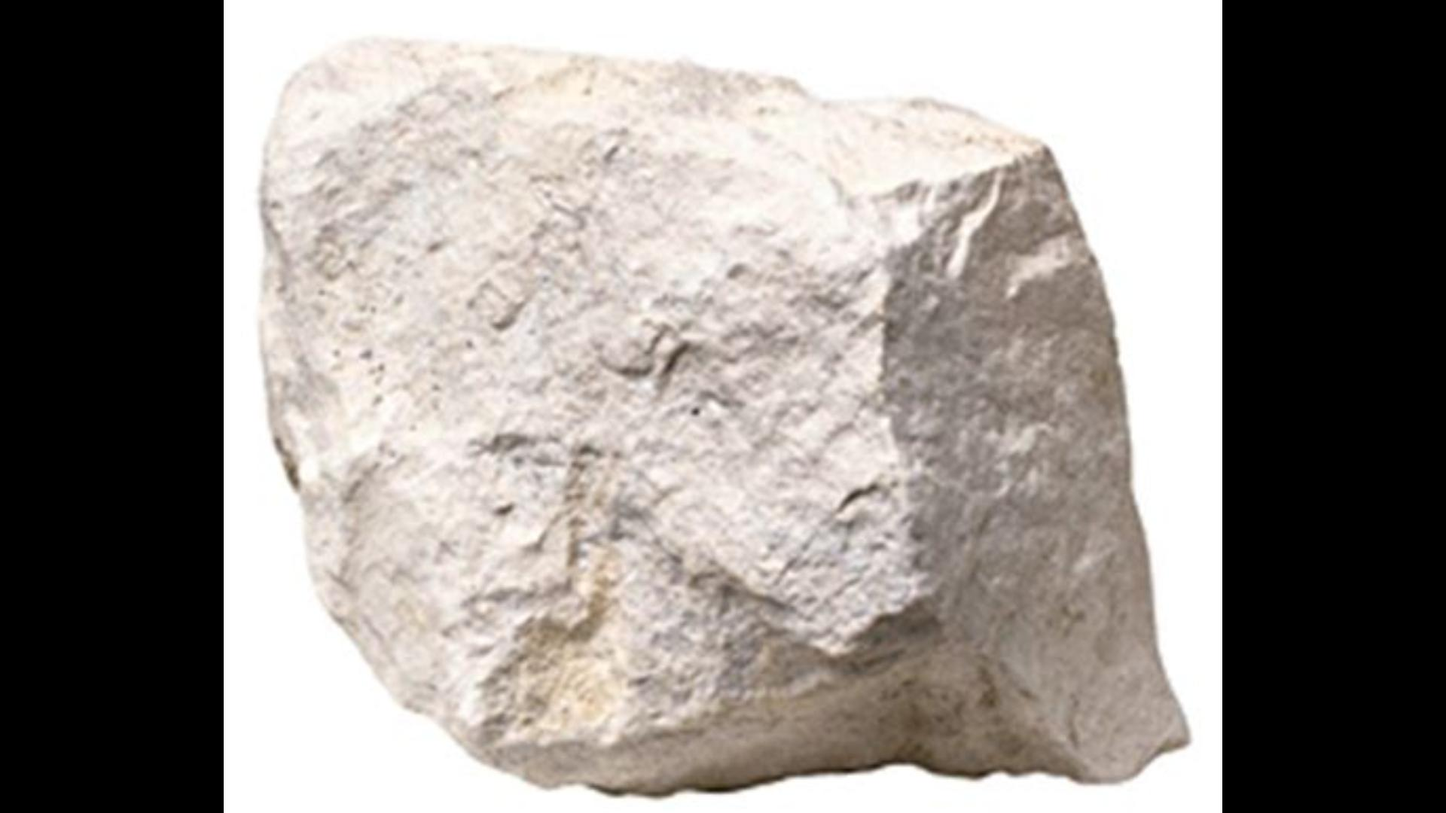rock: (262, 42, 1182, 790)
